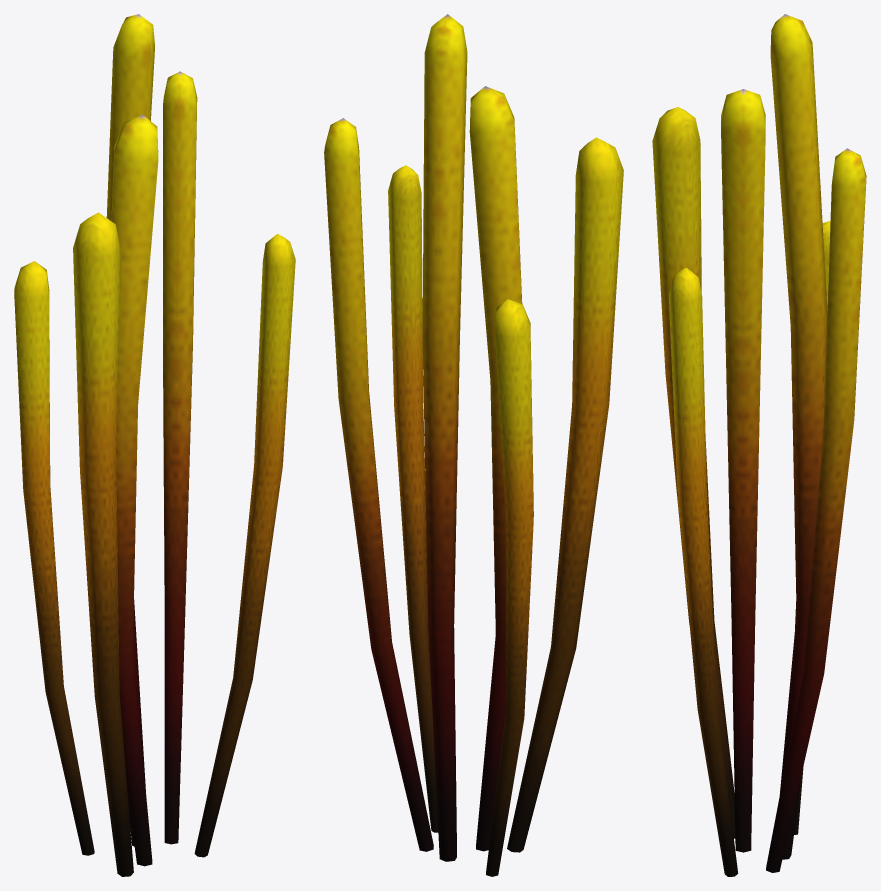
File: Coral_39b.FBX
The picture shows the model from 3 angles, left to right: view 1: azimuth 30°, elevation 25°; view 2: azimuth 150°, elevation 25°; view 3: azimuth 270°, elevation 25°; orthographic projection.
Visible parts, largest first — view 1: Coral_39b; view 2: Coral_39b; view 3: Coral_39b.
Part boxes in pixels (x1,y1,x2,y2): Coral_39b: [14, 14, 295, 876]; Coral_39b: [324, 14, 623, 876]; Coral_39b: [652, 14, 866, 876].
Size of the model in its own units: 21.77 by 79.19 by 18.23.
